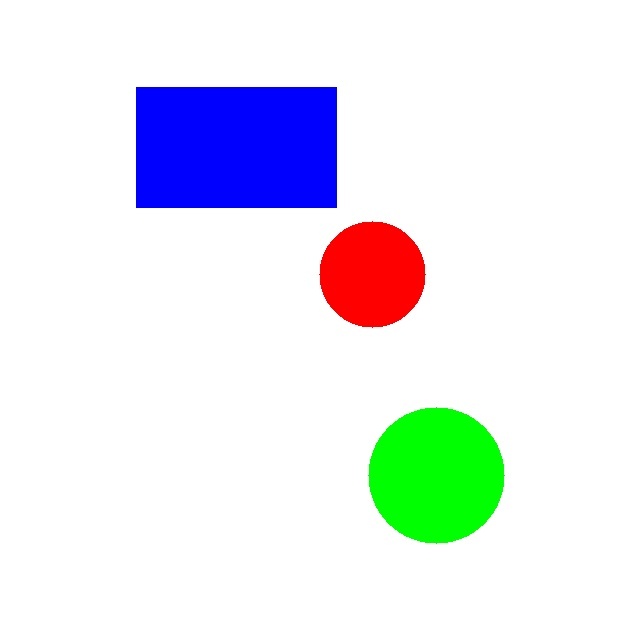cartao: (136, 87, 336, 207)
rosca_externa: (368, 407, 504, 543)
rosca_interna: (319, 221, 425, 327)
